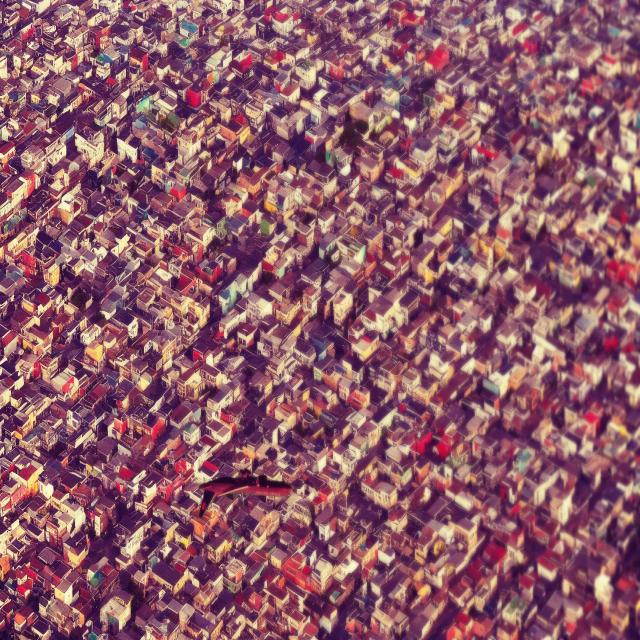airplane: (197, 477, 293, 516)
